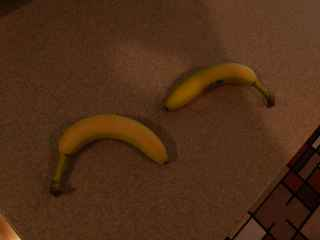banana: (49, 112, 172, 199), (162, 62, 277, 114)
